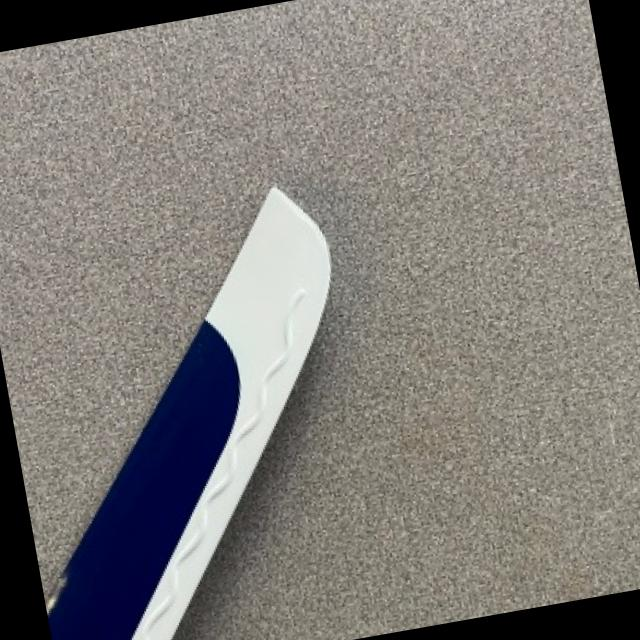healthy: (49, 185, 332, 640)
